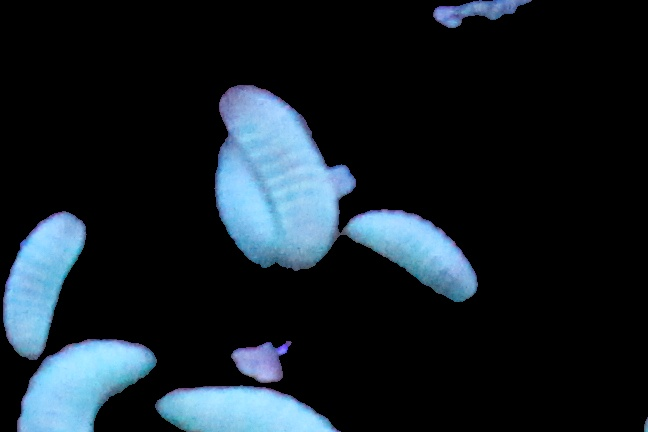larvae: (220, 85, 341, 269), (1, 208, 88, 360), (17, 338, 155, 432), (346, 210, 477, 308), (154, 385, 342, 432), (212, 140, 281, 268)
